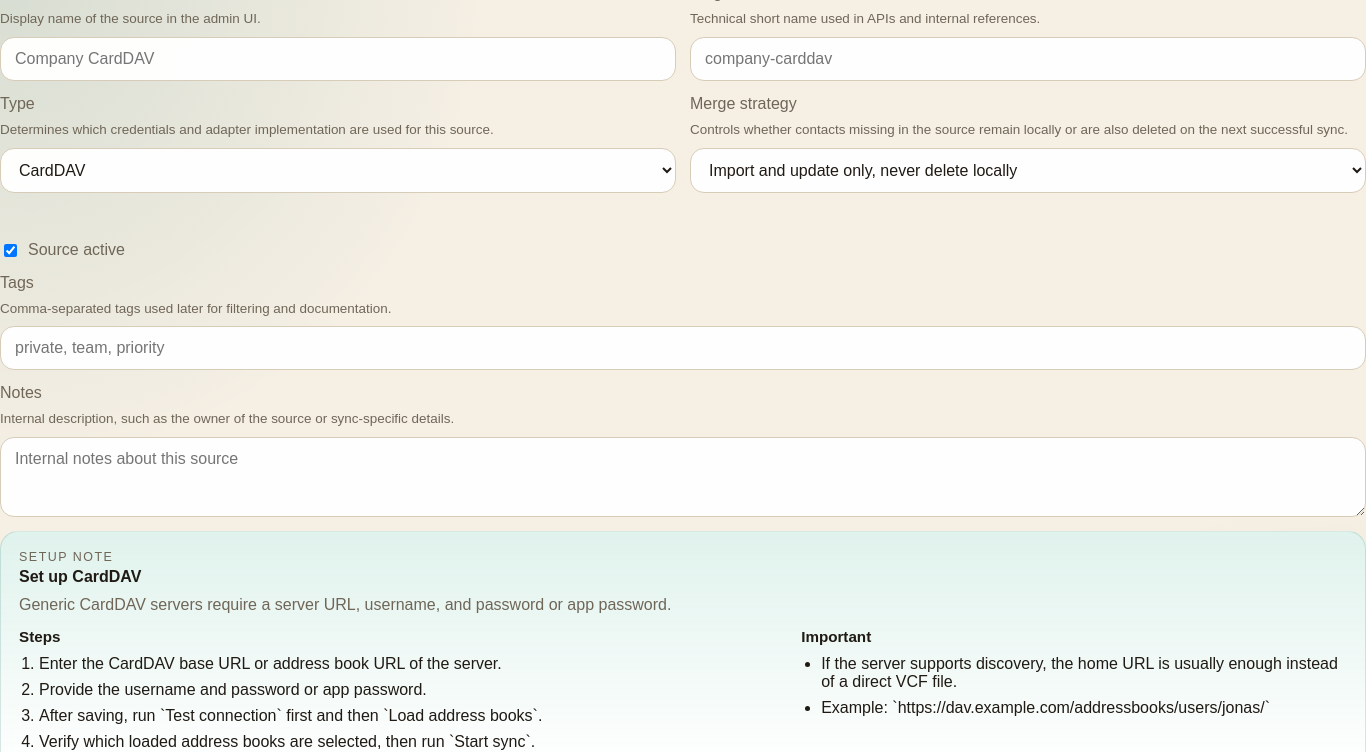
Test: shows inline validation when the required fields are too short
The width and height of the screenshot is (1366, 752).
Type "A" into the field with placeholder "Company CardDAV". click: (338, 59)
box: [0, 37, 676, 81]
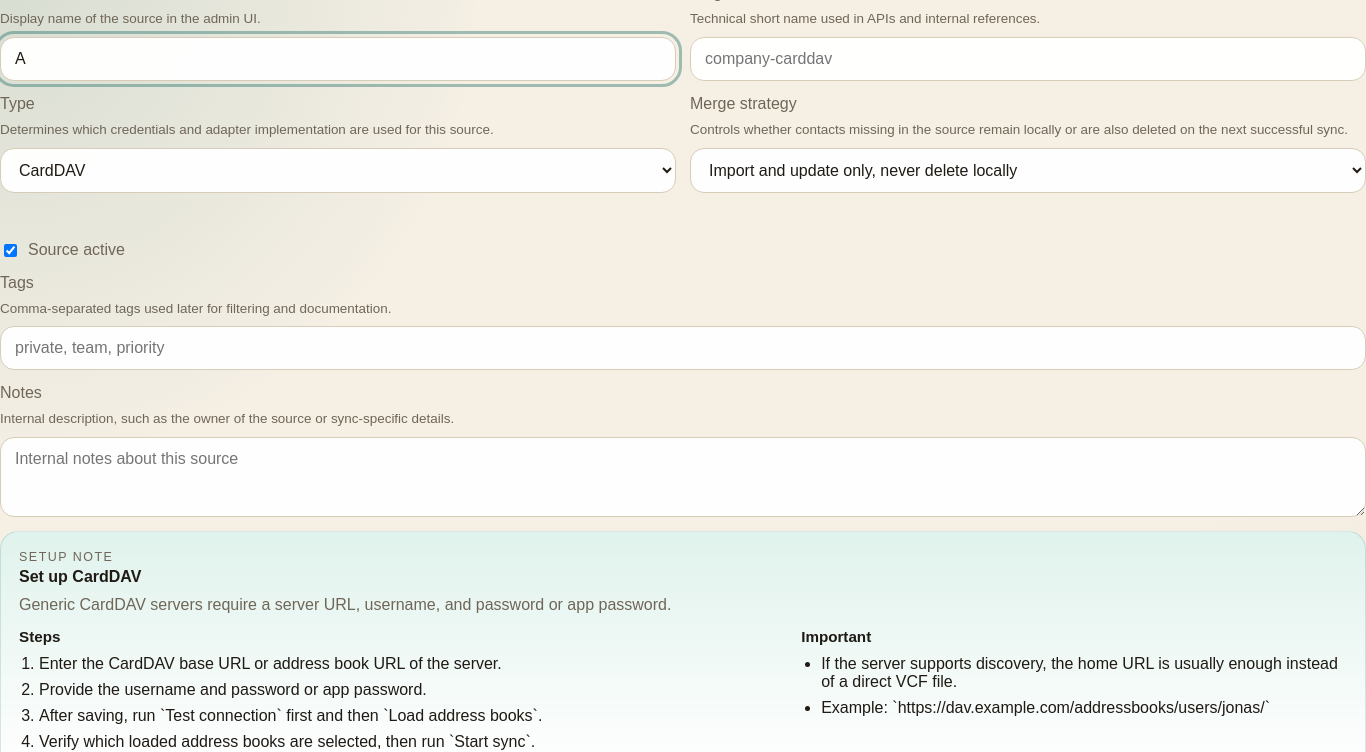
Type "b" into the field with placeholder "company-carddav". click: (1028, 59)
box: [690, 37, 1365, 81]
(page scrolled)
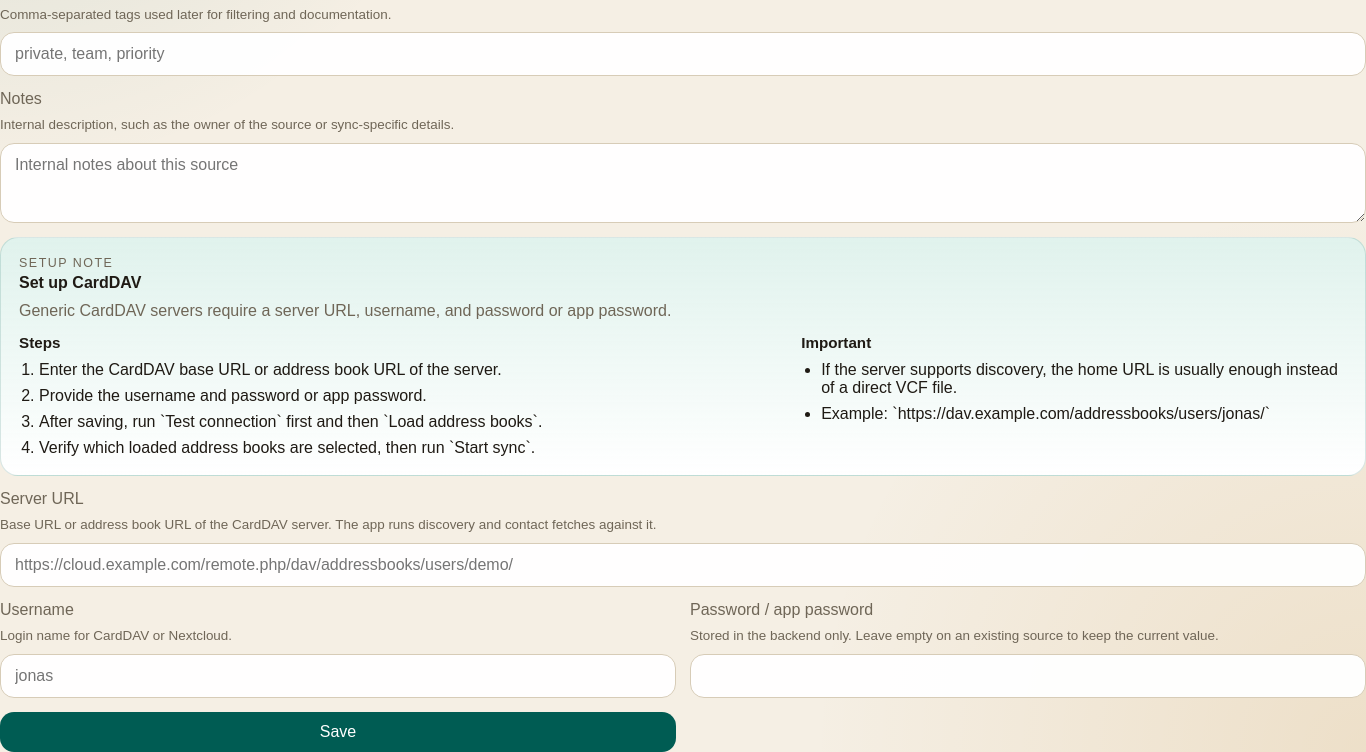
Click the button "Save". click: click(338, 732)
box: [0, 712, 676, 751]
(page scrolled)
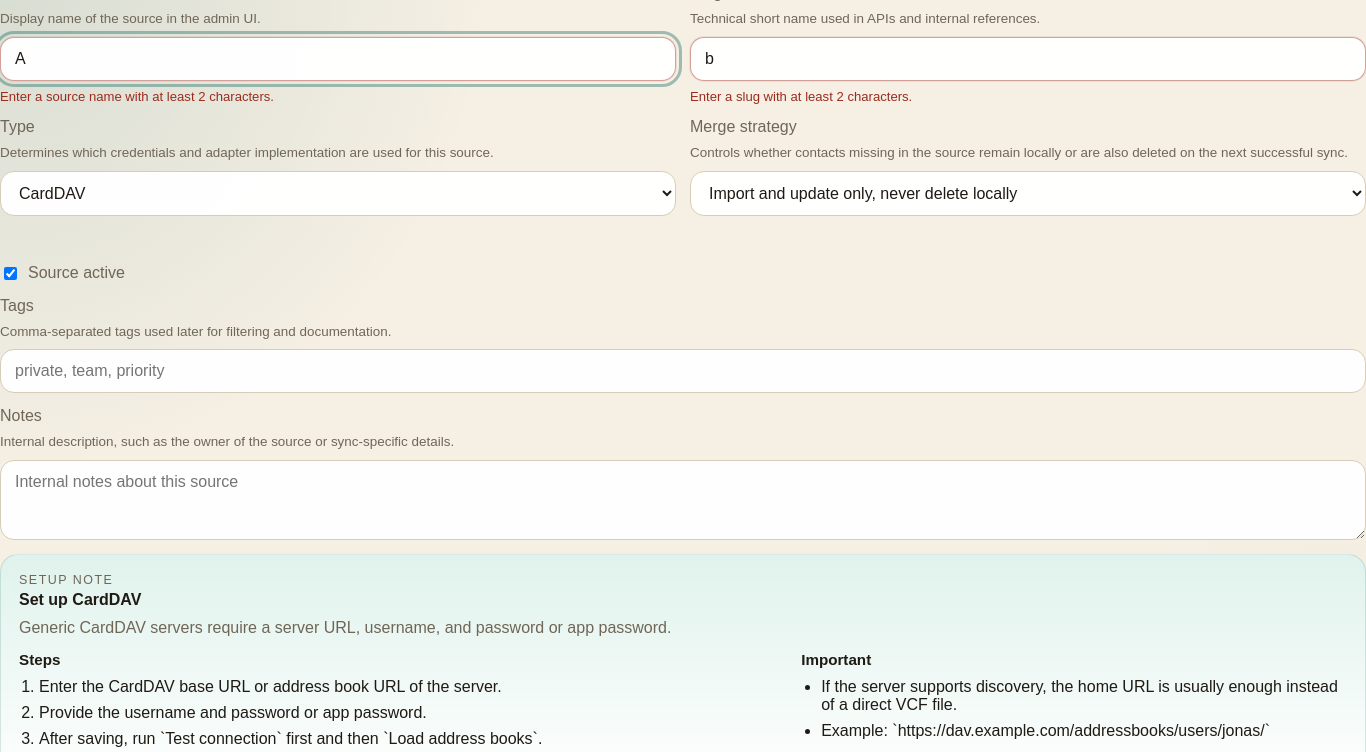
Expected: the text "Enter a source name with at least 2 characters." is shown, [0, 89, 274, 104]
Expected: the text "Enter a slug with at least 2 characters." is shown, [690, 89, 912, 104]
